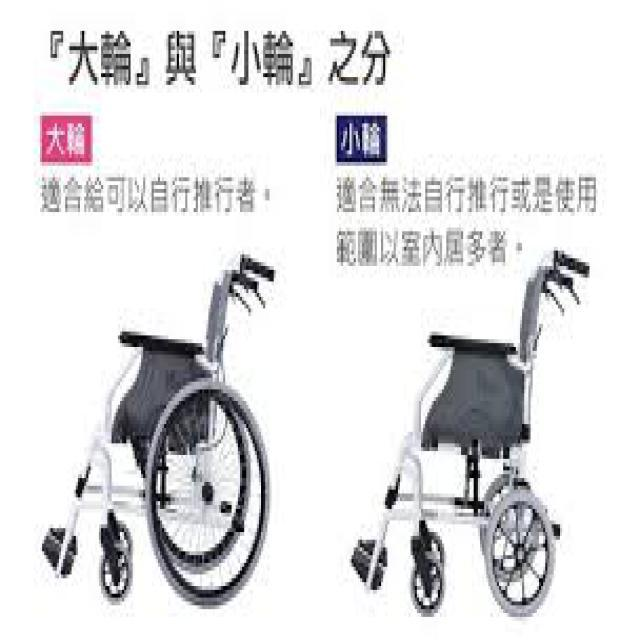wheelchair: (324, 238, 600, 632), (36, 238, 282, 632)
